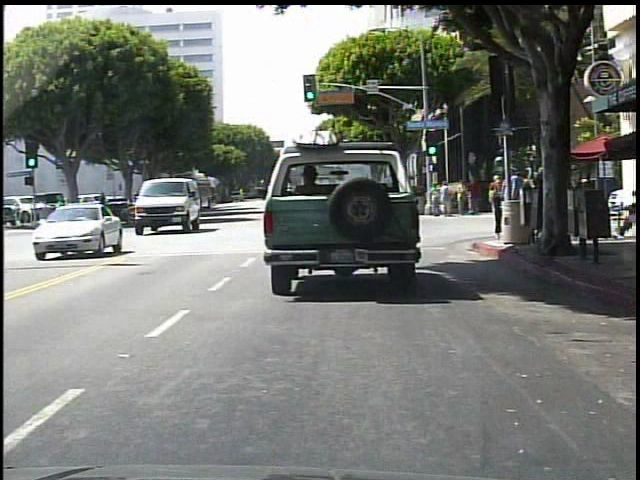person: (507, 167, 525, 236), (522, 175, 539, 229), (494, 173, 508, 238), (489, 171, 505, 223), (537, 175, 551, 219), (467, 172, 480, 213), (441, 180, 453, 217), (457, 178, 468, 213), (431, 183, 442, 215)
